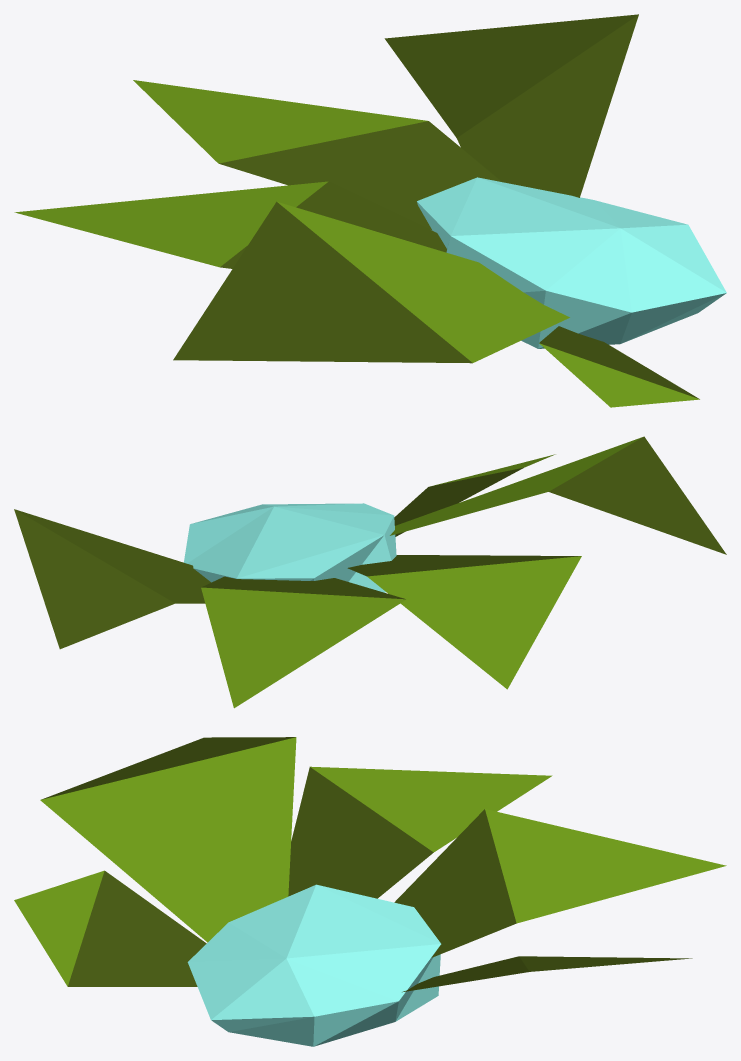
The model's file is Flower_M1_6.fbx.
The picture shows the model from 3 angles, top to bottom: view 1: azimuth 30°, elevation 25°; view 2: azimuth 150°, elevation 25°; view 3: azimuth 270°, elevation 25°; orthographic projection. The views are drawn at different scales.
Parts seen in each view (by area): view 1: Flower_M1_6; view 2: Flower_M1_6; view 3: Flower_M1_6.
Boxes of the visible parts, x1,y1,x2,y2 form: Flower_M1_6: (14,14,726,407); Flower_M1_6: (14,436,726,708); Flower_M1_6: (14,737,726,1046).
Size of the model in its own units: 36.53 by 10.21 by 41.35.
